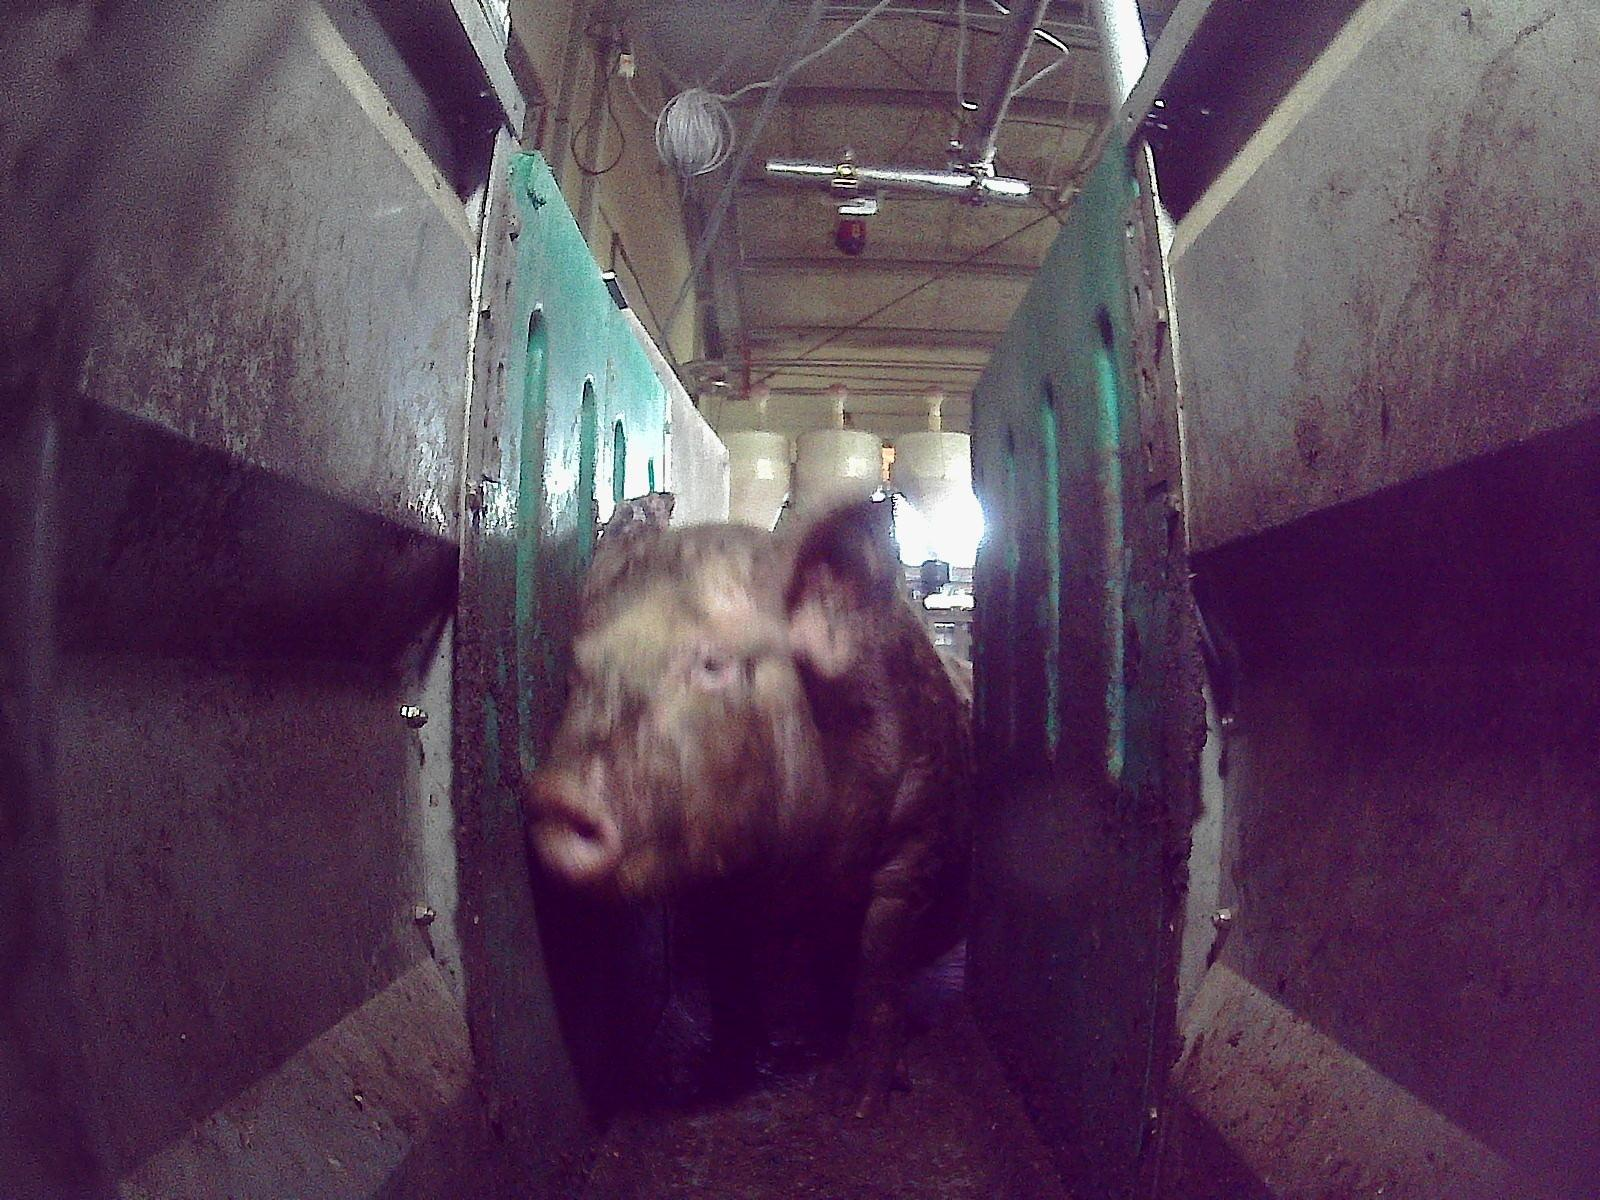Face: (526, 523, 801, 893)
